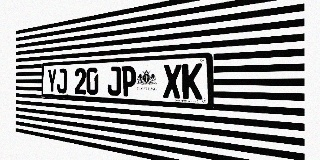0: (86, 67, 98, 95)
2: (75, 68, 86, 94)
J: (107, 66, 121, 96), (57, 68, 67, 93)
K: (182, 63, 202, 100)
P: (121, 66, 136, 97)
X: (163, 64, 181, 99)
Y: (47, 69, 57, 93)
